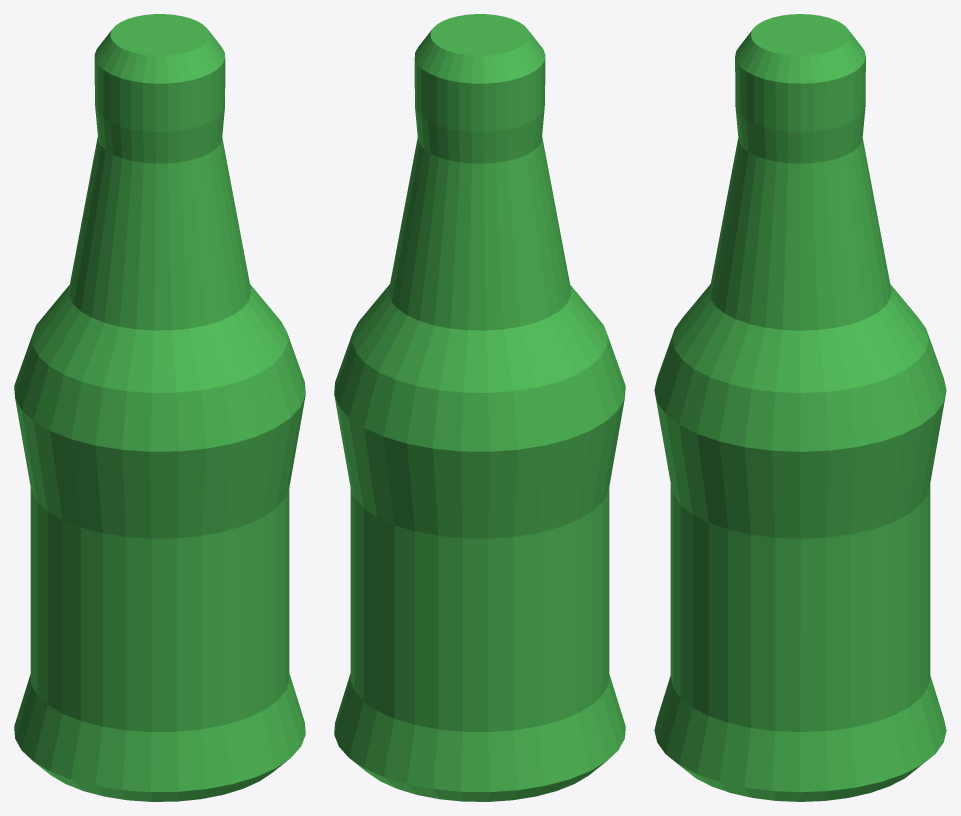
File: bottle.fbx
3 renders of one model, left to right at view 1: azimuth 30°, elevation 25°; view 2: azimuth 150°, elevation 25°; view 3: azimuth 270°, elevation 25°, orthographic.
Visible parts, largest first — view 1: Cylinder; view 2: Cylinder; view 3: Cylinder.
Part boxes in pixels (box(x1,y1,x2,y2)): Cylinder: box(14, 14, 305, 801); Cylinder: box(334, 14, 625, 801); Cylinder: box(654, 14, 946, 801).
Size of the model in its own units: 200 by 539 by 200.
